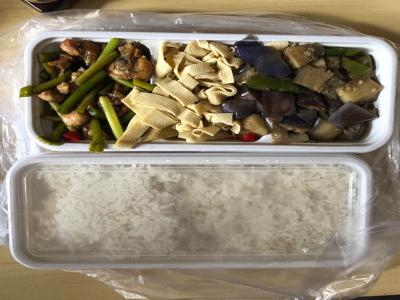gdf: (145, 32, 238, 158)
rice: (17, 153, 375, 263)
sqz: (238, 37, 395, 156)
st: (37, 33, 148, 147)
